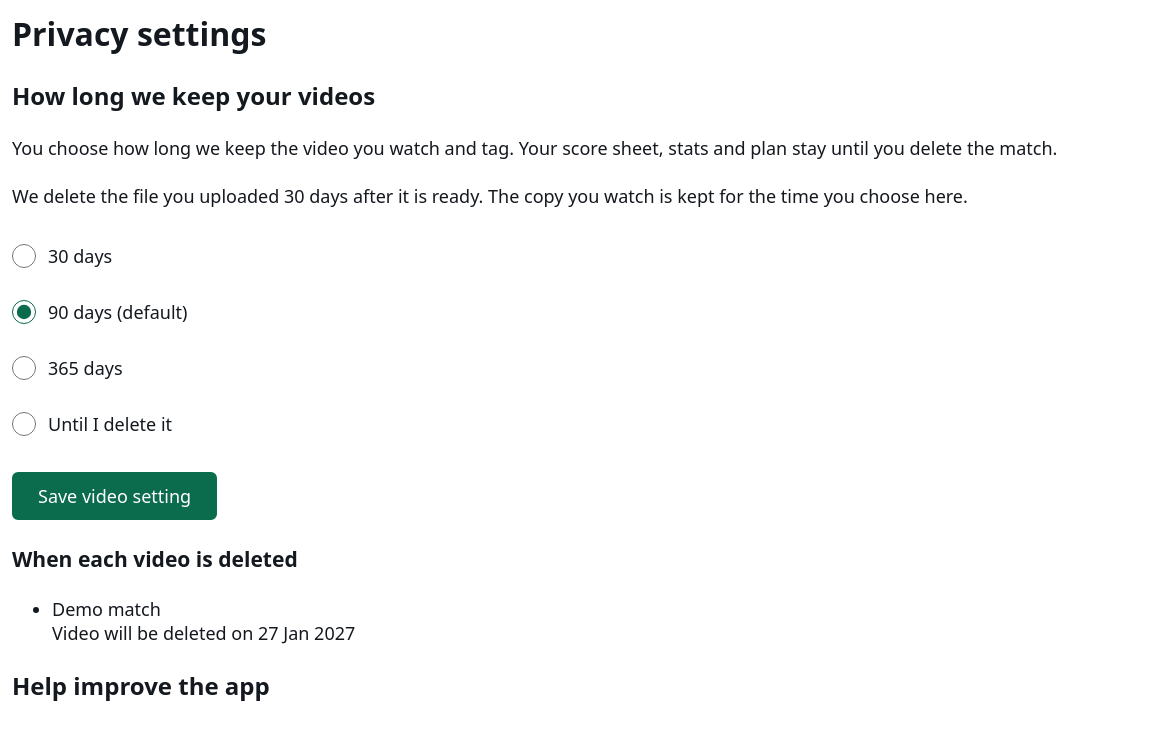
R-01 save errors (negative first) › a retention save error keeps the old value and says so
Expected: the heading "How long we keep your videos" is shown, [12, 79, 375, 112]
Click the radio button labelled "30 days" at (24,256), box [12, 244, 36, 268]
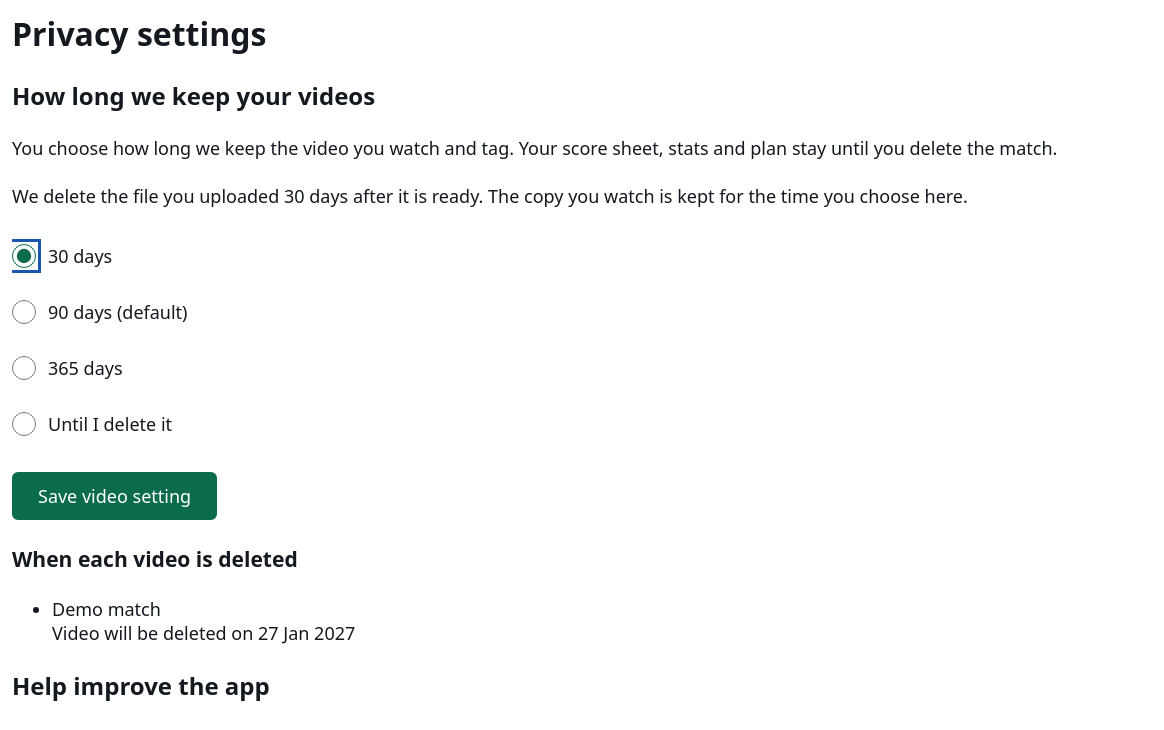
Click the button "Save video setting" at (115,496), box [12, 472, 217, 520]
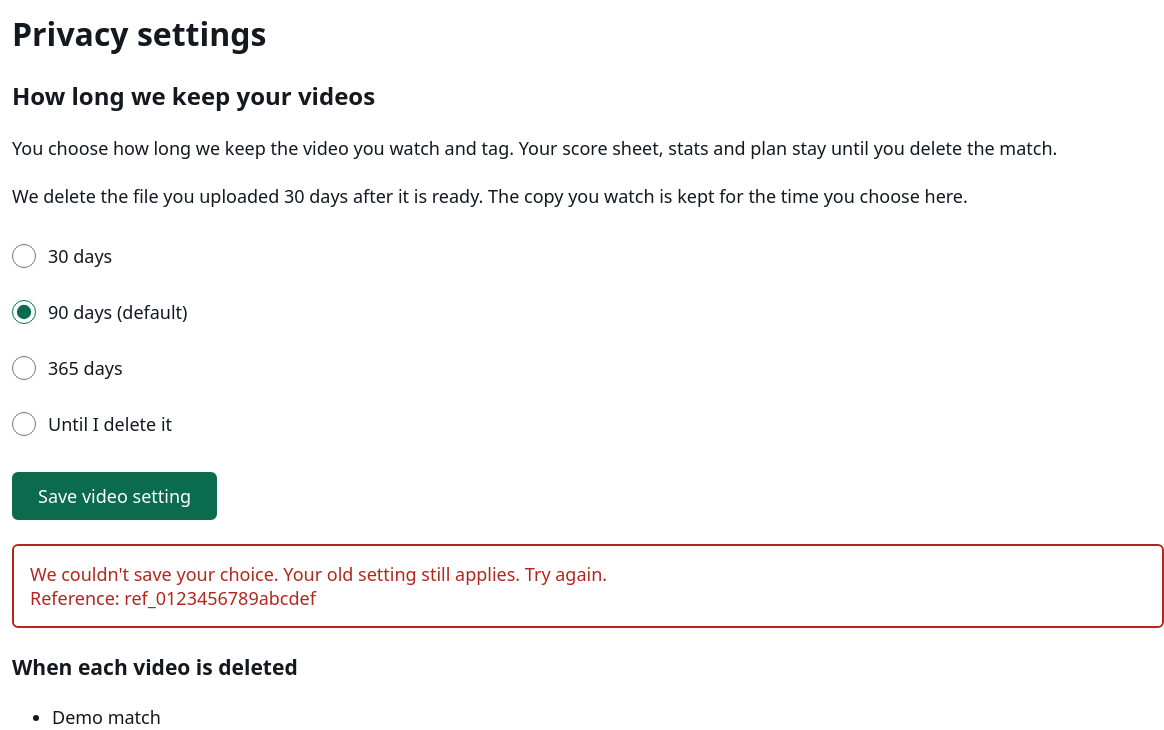
Now the message shows "We couldn't save your choice. Your old setting still applies. Try again.", box [30, 562, 607, 586]
Now the message shows "Reference: ref_0123456789abcdef", box [30, 586, 316, 610]
Now the radio button labelled "90 days (default)" is checked, box [12, 300, 36, 324]
